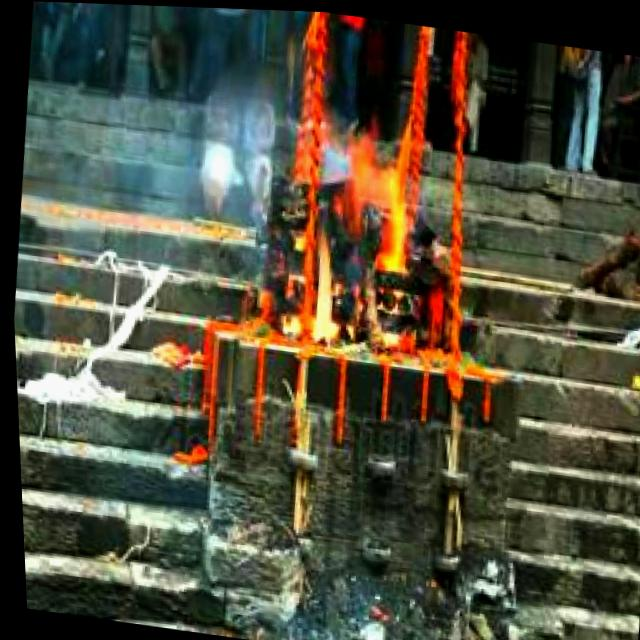Fire: (286, 99, 425, 357)
